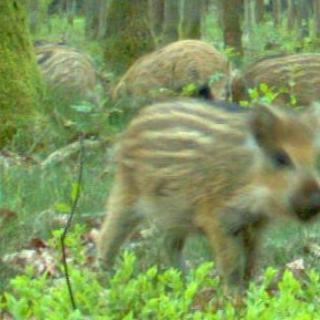Pig: (102, 92, 320, 295)
